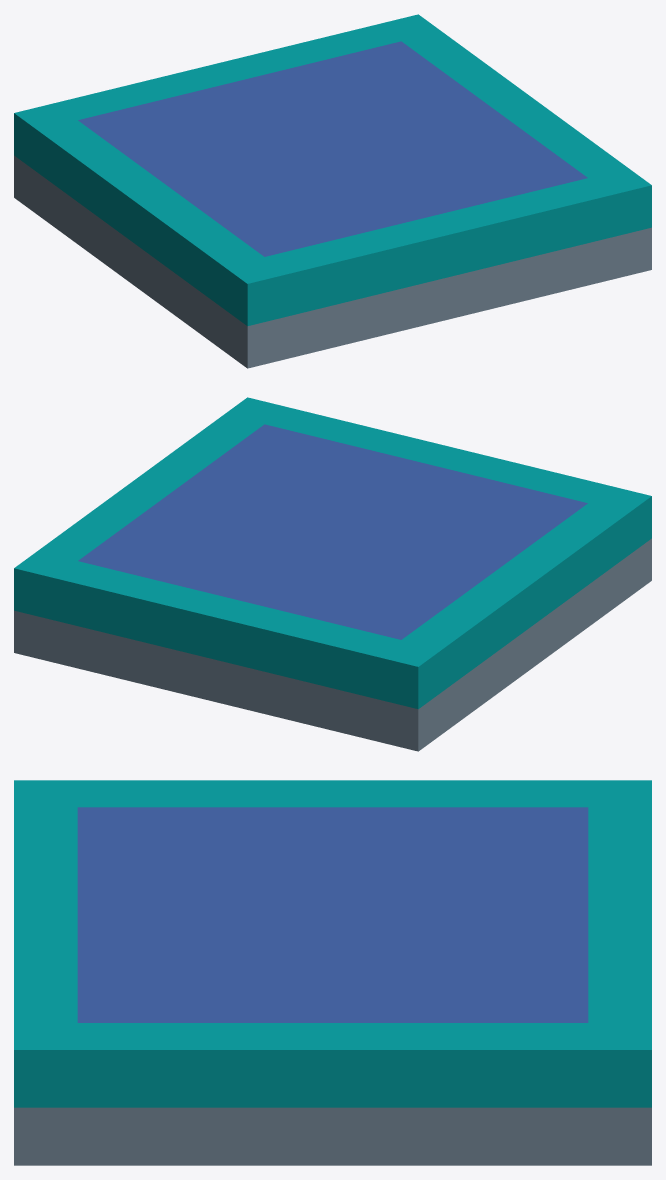
Rendered from platform3.fbx.
3 renders of one model, top to bottom at view 1: azimuth 30°, elevation 25°; view 2: azimuth 150°, elevation 25°; view 3: azimuth 270°, elevation 25°, orthographic. The views are drawn at different scales.
Parts seen in each view (by area): view 1: 对象; view 2: 对象; view 3: 对象.
Boxes of the visible parts, x1,y1,x2,y2 form: 对象: (14, 14, 651, 368); 对象: (14, 397, 651, 751); 对象: (14, 780, 651, 1165).
Bounding box in the file's own units: 10 × 2 × 10.
Materials: 1 (1 with a texture image).
